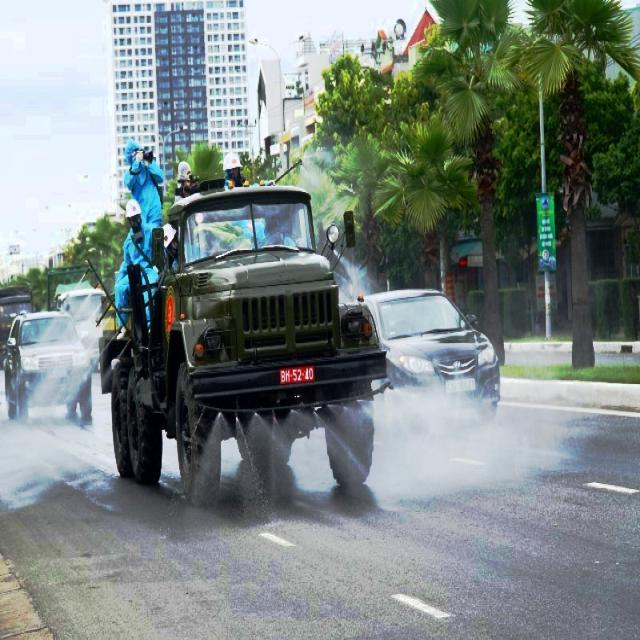license_plate: (281, 366, 316, 387)
